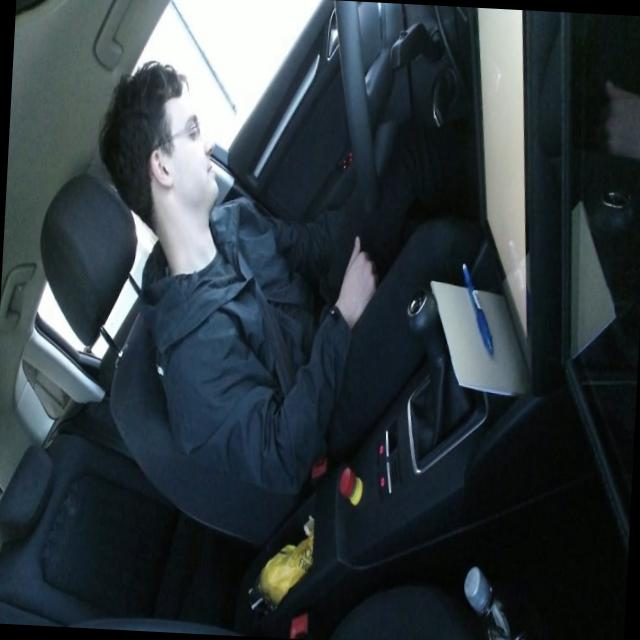pen: (456, 260, 498, 356)
